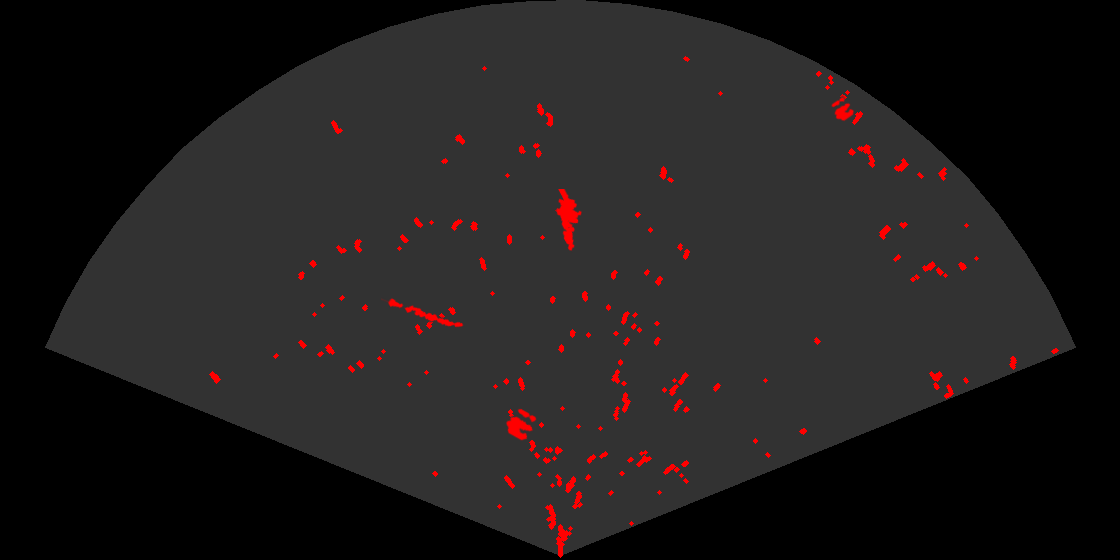ball: (504, 407, 538, 442), (830, 95, 856, 123)
chain: (381, 297, 465, 329)
frogman: (554, 189, 583, 253)
